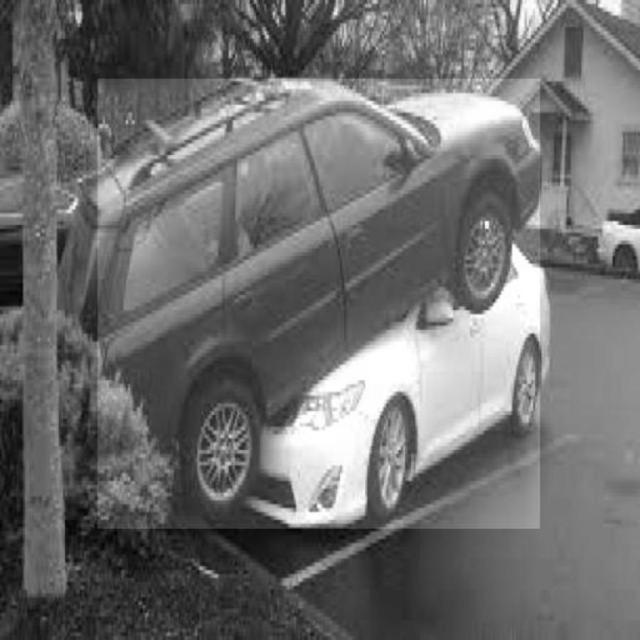accident: (97, 79, 539, 529)
